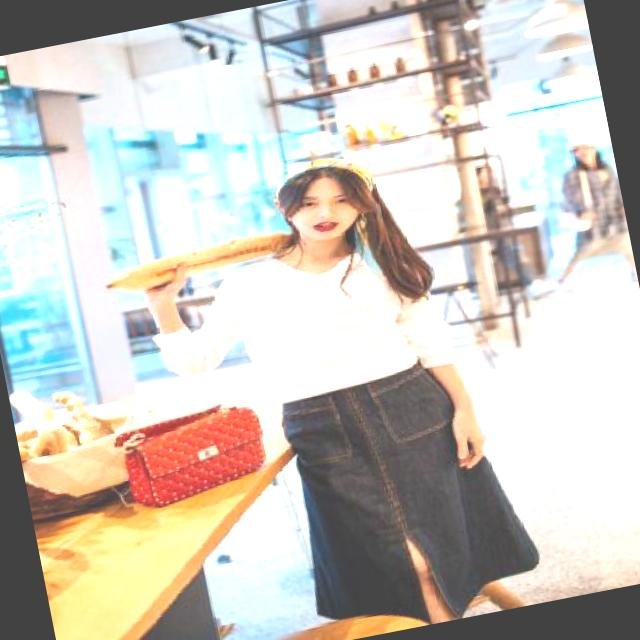Person: (90, 114, 589, 640)
